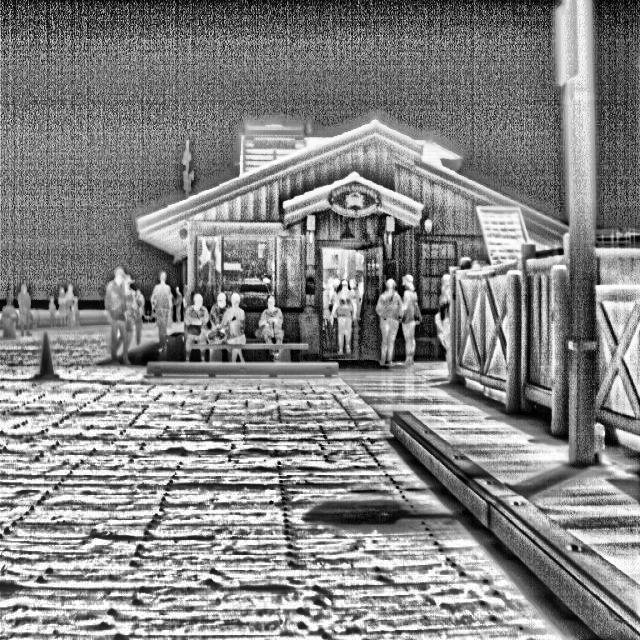person and bycle: (104, 263, 141, 363), (428, 259, 460, 362), (257, 292, 300, 363), (399, 266, 430, 360), (373, 276, 402, 367), (154, 266, 180, 361), (331, 276, 361, 357), (185, 286, 211, 360), (208, 288, 232, 363), (223, 291, 248, 360), (16, 277, 35, 343), (45, 276, 66, 328), (63, 280, 84, 329)
